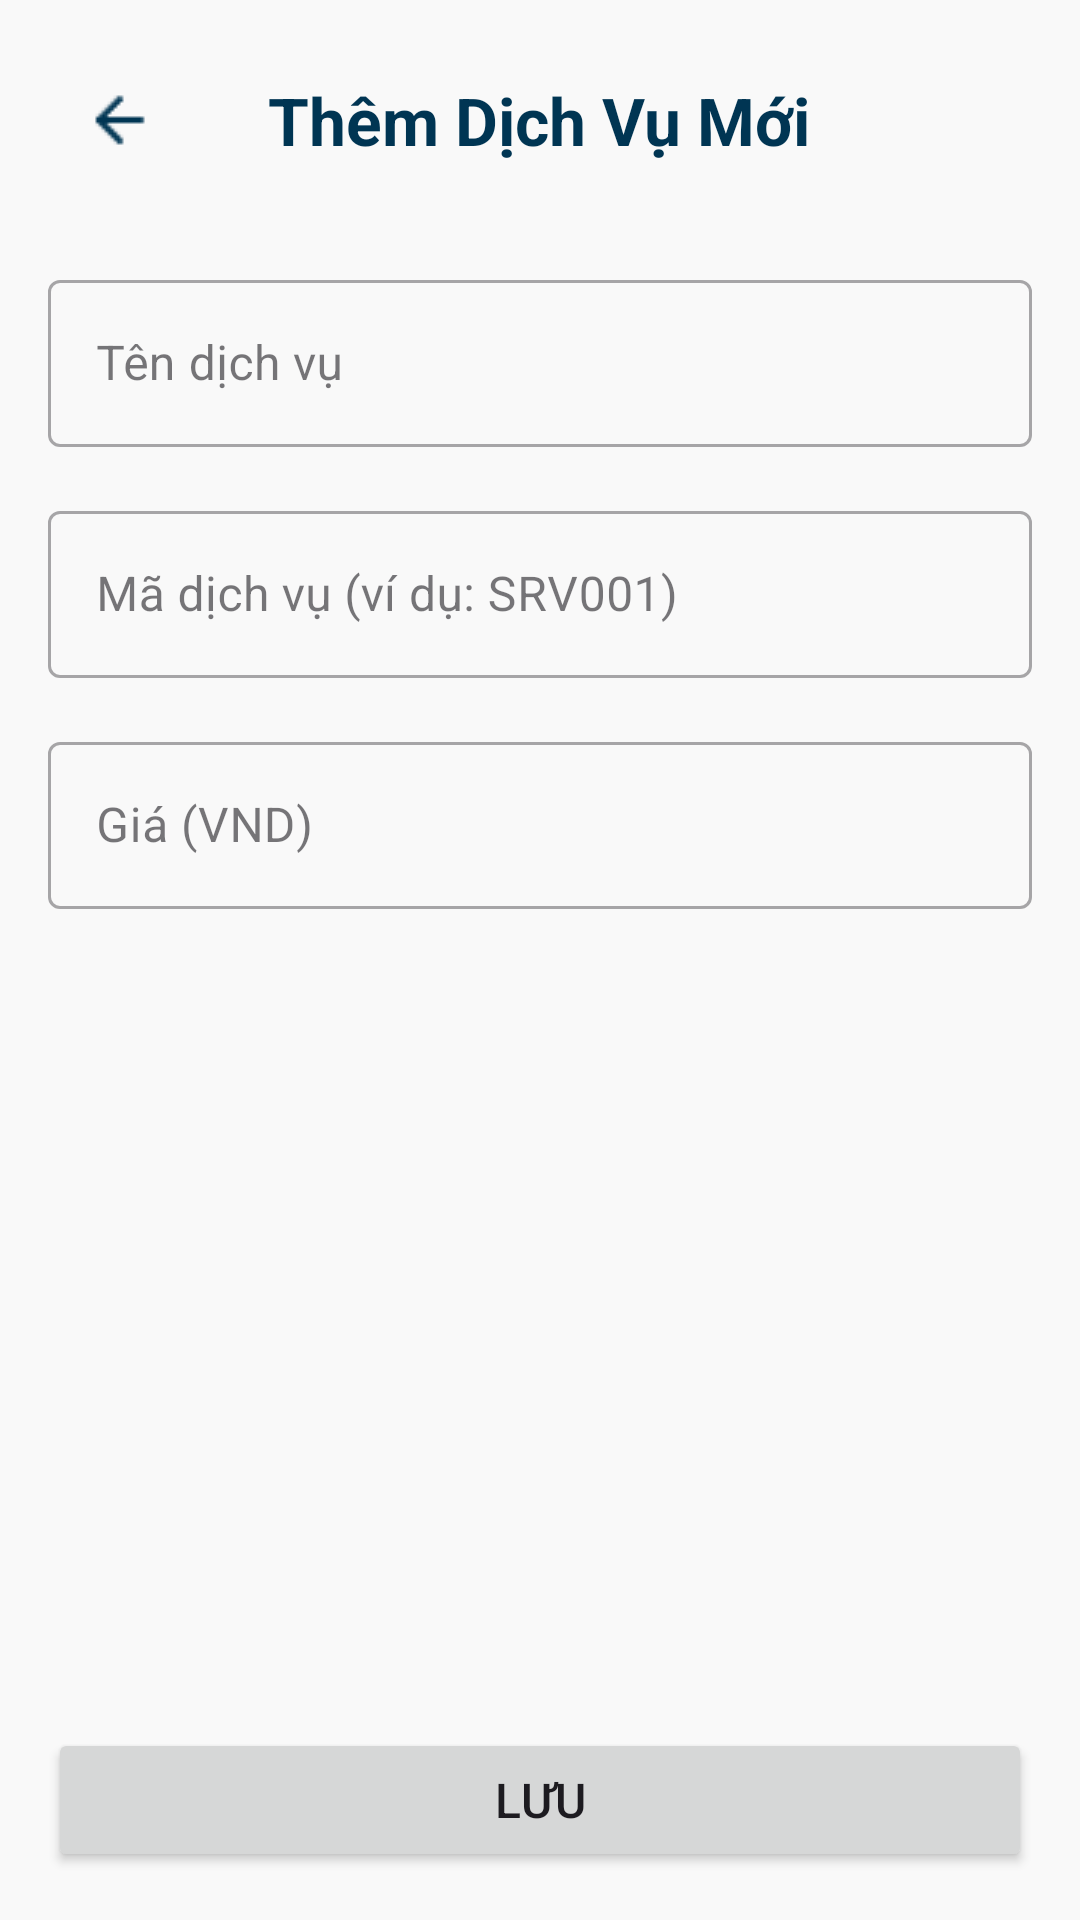

Named icons in this screenshot (1080×1920) and their bounding boxes, bbox(x1, y1, x2, y2):
Quay lại: bbox(95, 95, 145, 145)
